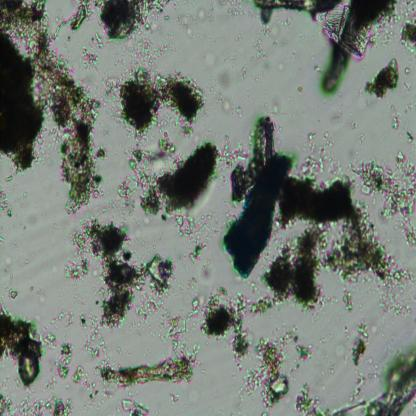Background material: (44, 48, 107, 212), (113, 132, 220, 222), (250, 217, 336, 321), (70, 214, 140, 339), (0, 0, 49, 177), (113, 67, 208, 137), (281, 156, 370, 227), (320, 219, 414, 286), (235, 326, 300, 416), (93, 344, 202, 397), (353, 155, 416, 245), (202, 280, 259, 364), (319, 0, 400, 58), (0, 305, 54, 383), (226, 118, 276, 197), (97, 0, 170, 40), (137, 257, 177, 325), (172, 209, 216, 262), (163, 296, 205, 346), (0, 389, 72, 416), (51, 0, 98, 40), (253, 0, 325, 26), (312, 48, 348, 100), (130, 20, 169, 62), (362, 59, 398, 98), (375, 284, 415, 318), (77, 312, 105, 356), (294, 384, 329, 416), (79, 34, 110, 70), (54, 341, 77, 384), (220, 134, 242, 166), (330, 398, 367, 416), (253, 24, 271, 60), (307, 128, 334, 152), (72, 365, 91, 396), (348, 368, 365, 402), (120, 398, 152, 416), (401, 22, 416, 59), (349, 336, 367, 364), (208, 74, 223, 106), (218, 0, 245, 17), (223, 99, 244, 118), (400, 0, 416, 23), (178, 276, 198, 294), (296, 342, 314, 361), (59, 310, 78, 327), (0, 187, 11, 216), (182, 16, 198, 33), (2, 286, 20, 300), (390, 103, 400, 128), (371, 318, 384, 337), (342, 290, 353, 311), (208, 0, 218, 23), (358, 323, 370, 338), (36, 284, 46, 302), (239, 63, 249, 81), (253, 70, 267, 82), (225, 56, 237, 70), (327, 361, 339, 375), (335, 341, 346, 356), (232, 30, 244, 43), (198, 10, 208, 24), (51, 212, 59, 228), (406, 132, 415, 146), (282, 15, 293, 26), (358, 133, 366, 148), (403, 102, 413, 113), (25, 253, 35, 264), (404, 80, 413, 92), (271, 104, 280, 116), (183, 0, 195, 9), (343, 326, 351, 339), (15, 197, 23, 209), (278, 62, 286, 73), (351, 120, 358, 131), (342, 352, 348, 364), (172, 394, 181, 402), (5, 175, 13, 183), (295, 84, 303, 92), (319, 368, 326, 377), (319, 338, 329, 343), (366, 357, 374, 363), (404, 66, 410, 74), (0, 236, 5, 244), (23, 192, 28, 200), (294, 336, 298, 342), (10, 274, 14, 279), (296, 363, 300, 368), (30, 286, 33, 291)
Cellulose filter fibre: (367, 363, 416, 416)
Fragment: (219, 150, 288, 279)
